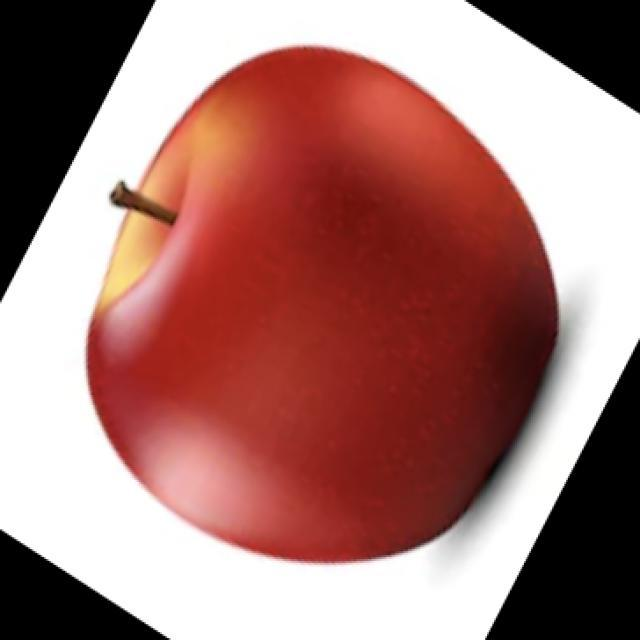Fresh Apple: (97, 60, 565, 557)
